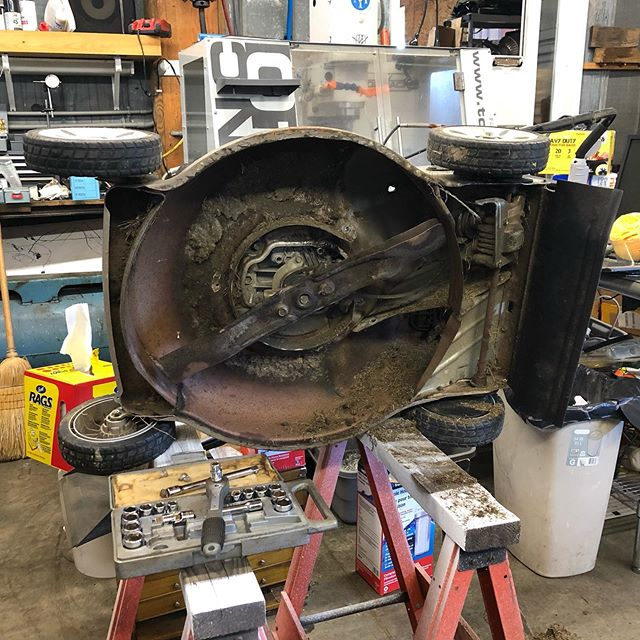lawnmower: (30, 115, 579, 451)
